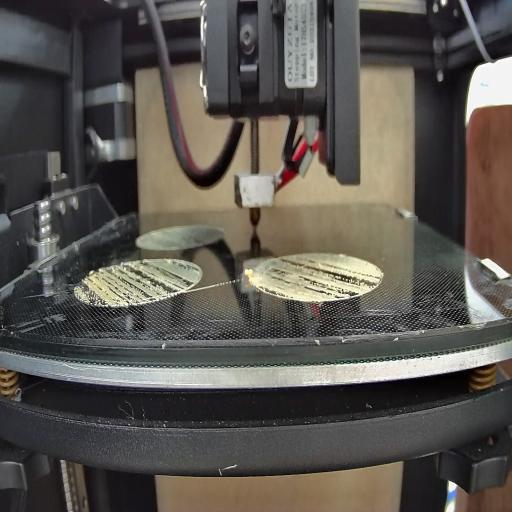under_extrusion: (80, 259, 198, 307), (262, 254, 380, 300)
